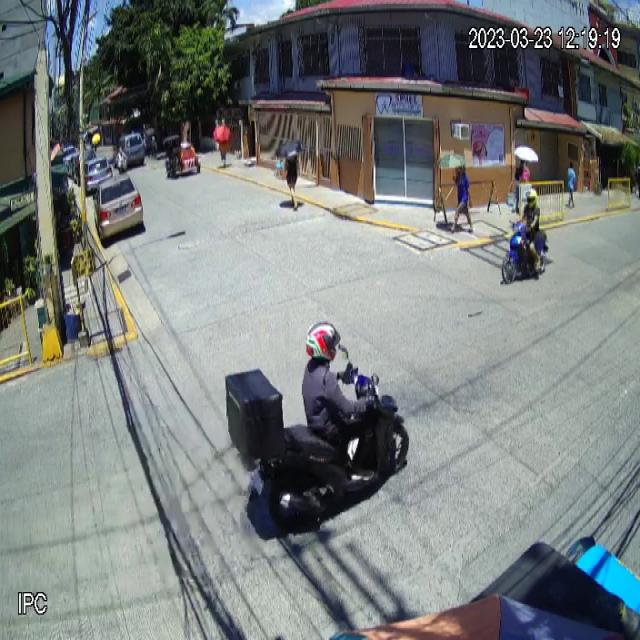Motorcycle: (225, 344, 410, 532)
